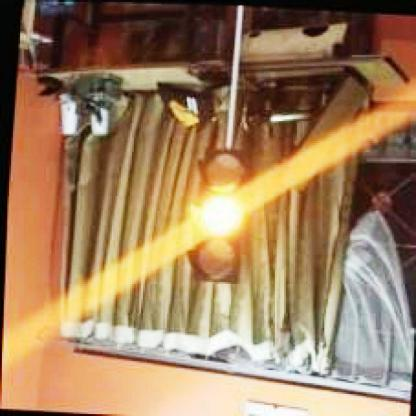Traffic Light -Yellow-: (191, 146, 249, 282)
